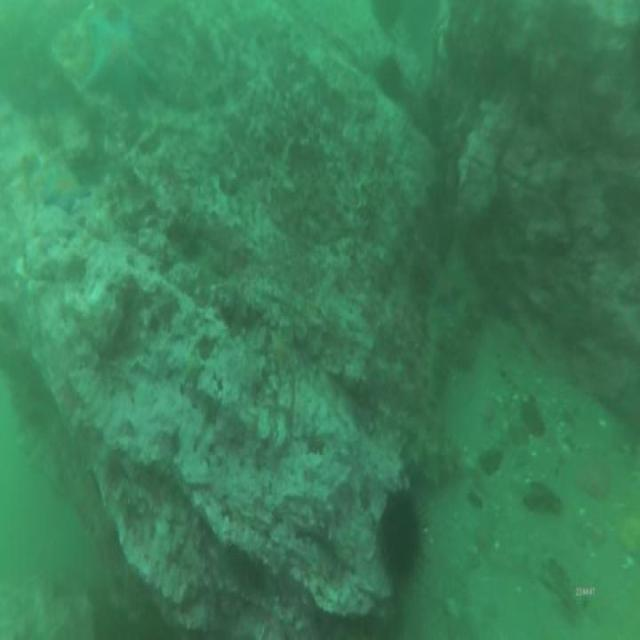echinus: (374, 480, 419, 590), (373, 47, 408, 109), (371, 0, 406, 40)
holothurian: (412, 428, 464, 484), (542, 548, 582, 620)
starfish: (82, 0, 162, 98), (35, 161, 93, 218)
